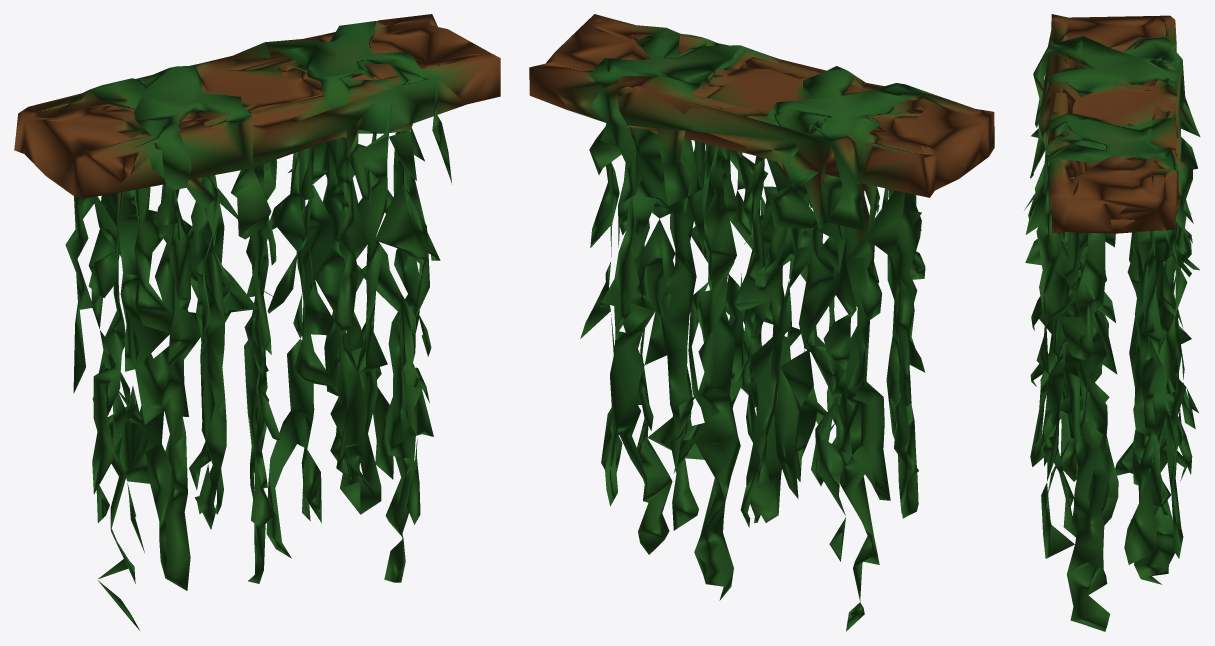
Rendered from gen3d-vine-curtain-lod0.glb.
3 renders of one model, left to right at view 1: azimuth 30°, elevation 25°; view 2: azimuth 150°, elevation 25°; view 3: azimuth 270°, elevation 25°, orthographic. The views are drawn at different scales.
Visible parts, largest first — view 1: part_0; view 2: part_0; view 3: part_0.
Part boxes in pixels (bbox=[...]): part_0: bbox=[14, 14, 500, 630]; part_0: bbox=[529, 14, 994, 631]; part_0: bbox=[1024, 14, 1200, 631].
Size of the model in its own units: 0.7996 by 0.9933 by 0.3232.
